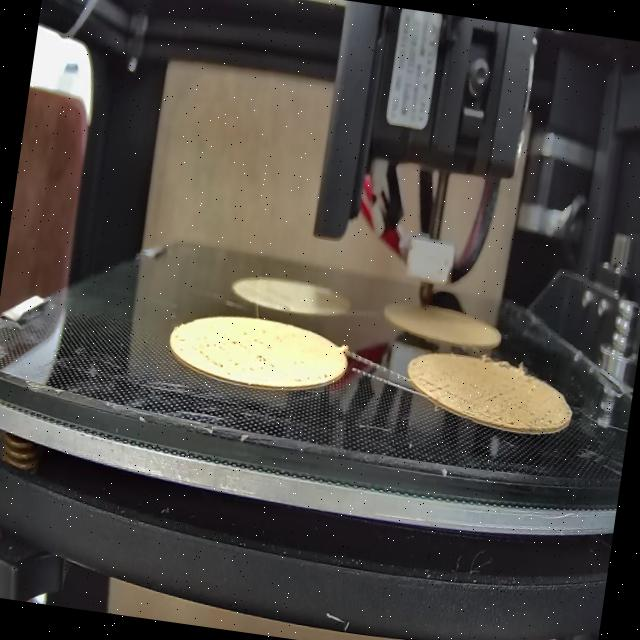under_extrusion: (196, 323, 282, 382), (474, 380, 558, 433), (416, 372, 462, 406), (288, 363, 331, 394)
